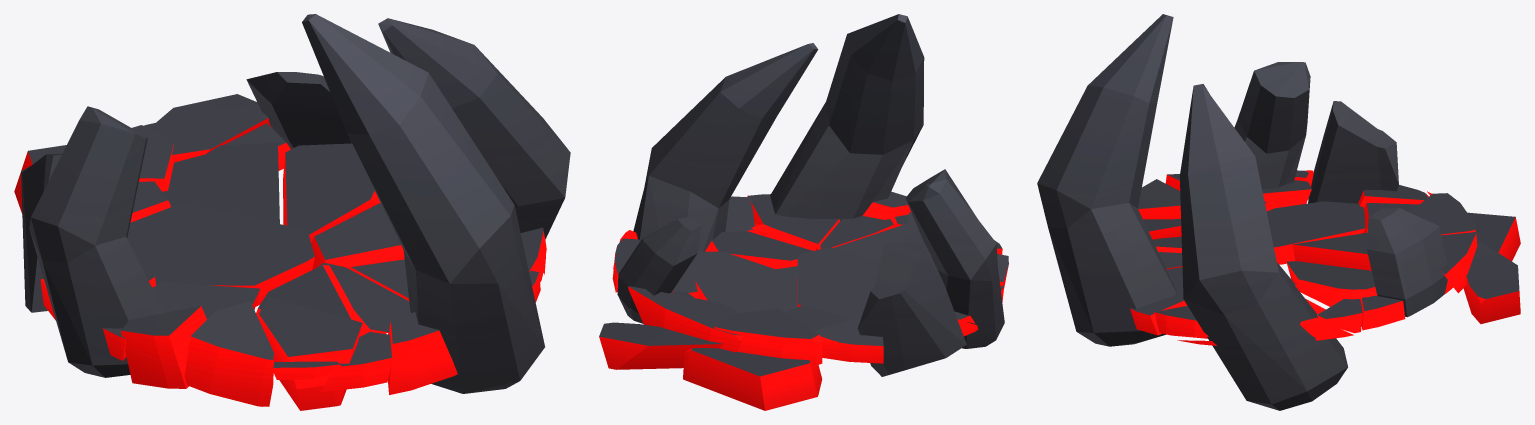
File: Cosa_Orca.fbx
3 renders of one model, left to right at view 1: azimuth 30°, elevation 25°; view 2: azimuth 150°, elevation 25°; view 3: azimuth 270°, elevation 25°, orthographic. The views are drawn at different scales.
Parts seen in each view (by area): view 1: Piedra_Orca; view 2: Piedra_Orca; view 3: Piedra_Orca.
Boxes of the visible parts, left/top/right/bottom form: Piedra_Orca: left=14, top=14, right=570, bottom=410; Piedra_Orca: left=599, top=14, right=1008, bottom=410; Piedra_Orca: left=1037, top=14, right=1520, bottom=410.
Size of the model in its own units: 101 by 82.08 by 119.
